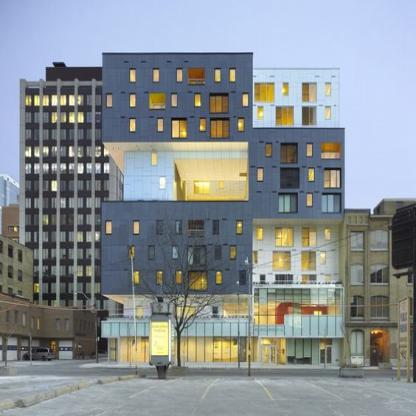Balcony: (102, 142, 249, 201), (109, 310, 252, 321), (252, 279, 345, 286)
Building Outline: (100, 52, 345, 365)
Door: (259, 345, 276, 363), (109, 338, 118, 362), (176, 306, 195, 317), (275, 275, 293, 286), (302, 275, 317, 286), (326, 346, 332, 364), (325, 275, 331, 286), (261, 275, 266, 286), (213, 306, 218, 317), (137, 306, 142, 317)
Facade: (100, 52, 345, 366)
Floor Slab: (101, 215, 345, 218), (102, 138, 344, 141), (101, 321, 252, 324), (101, 238, 252, 241), (101, 266, 252, 269), (101, 291, 252, 294), (102, 113, 252, 116), (103, 85, 252, 88), (250, 163, 345, 166), (250, 189, 345, 192)
Glass Wall: (103, 288, 343, 364)
Window: (281, 167, 300, 189), (255, 83, 275, 102), (279, 193, 298, 213), (322, 193, 341, 213), (210, 94, 229, 113), (211, 118, 229, 138), (280, 143, 298, 163), (275, 227, 293, 247), (188, 271, 207, 289), (188, 246, 207, 264), (273, 251, 291, 270), (276, 106, 293, 126), (223, 304, 247, 318), (321, 142, 341, 158), (325, 168, 341, 188), (302, 106, 317, 126), (302, 227, 317, 247), (172, 119, 187, 138), (301, 251, 316, 270), (302, 83, 317, 102), (188, 220, 204, 236), (189, 68, 205, 83), (149, 94, 165, 109), (194, 181, 210, 193), (195, 94, 201, 108), (230, 68, 236, 82), (130, 118, 136, 132), (130, 94, 136, 108), (130, 68, 136, 82), (154, 68, 160, 82), (176, 68, 182, 82), (215, 68, 221, 82), (171, 94, 177, 108), (157, 118, 163, 132), (200, 118, 206, 132), (238, 118, 244, 132), (106, 94, 112, 108), (106, 220, 112, 234), (133, 220, 139, 234), (157, 220, 163, 234), (307, 143, 313, 157), (230, 245, 236, 259), (173, 245, 179, 259), (216, 245, 222, 259), (176, 220, 182, 234), (213, 220, 219, 234), (148, 245, 154, 259), (129, 245, 135, 259), (133, 271, 139, 285), (157, 271, 163, 285), (240, 271, 246, 285), (176, 271, 182, 285), (216, 271, 222, 285), (307, 193, 313, 207), (258, 167, 264, 181), (309, 167, 315, 181), (266, 143, 272, 157), (242, 94, 248, 108), (236, 220, 242, 234), (325, 226, 331, 240), (320, 251, 326, 265), (252, 251, 258, 265), (258, 226, 264, 240), (325, 106, 331, 119), (258, 106, 264, 119), (325, 83, 331, 96), (283, 83, 289, 96), (152, 152, 157, 165), (160, 176, 165, 189), (219, 181, 224, 188)
